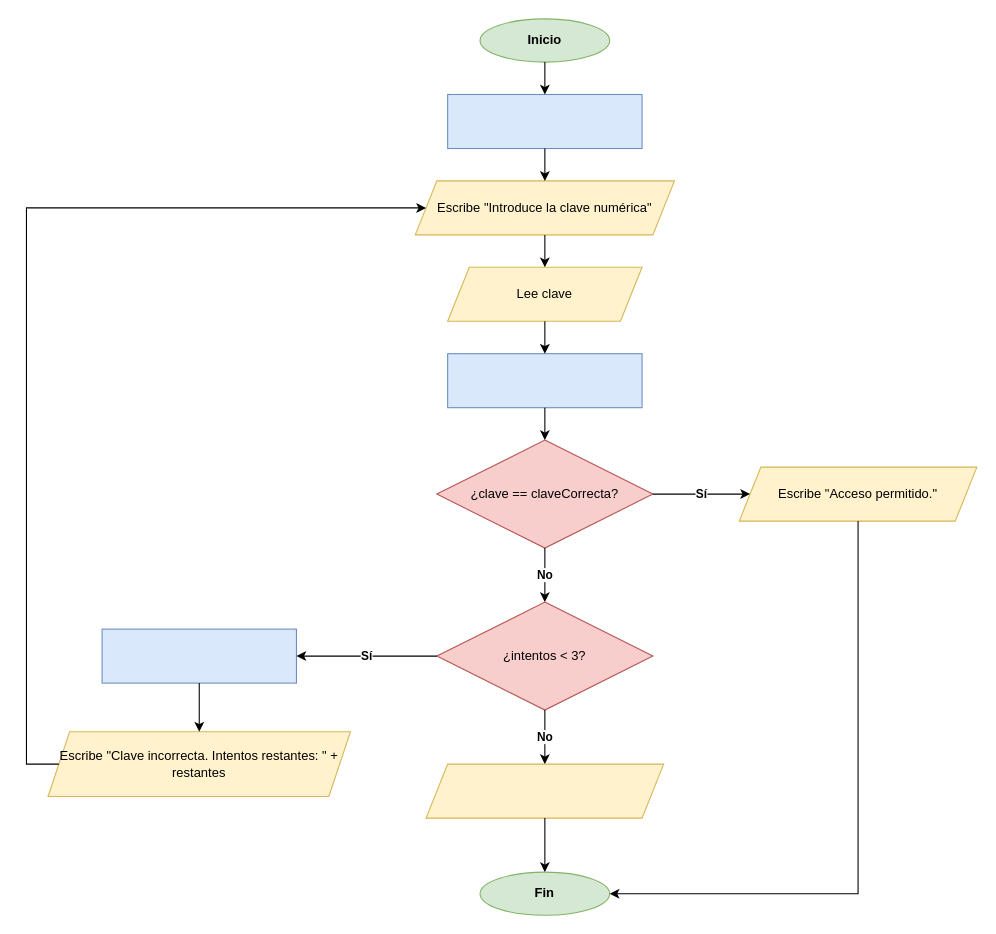
This 996x934 diagram has some shape labels left out. Each missing label, with the centre of its shape:
claveCorrecta = 2468 intentos = 0: pixel 544 120
Escribe "Acceso bloqueado.": pixel 544 790
intentos = intentos + 1: pixel 544 380
restantes = 3 - intentos: pixel 198 655
